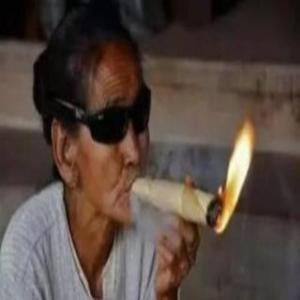cigarette: (134, 177, 224, 224)
